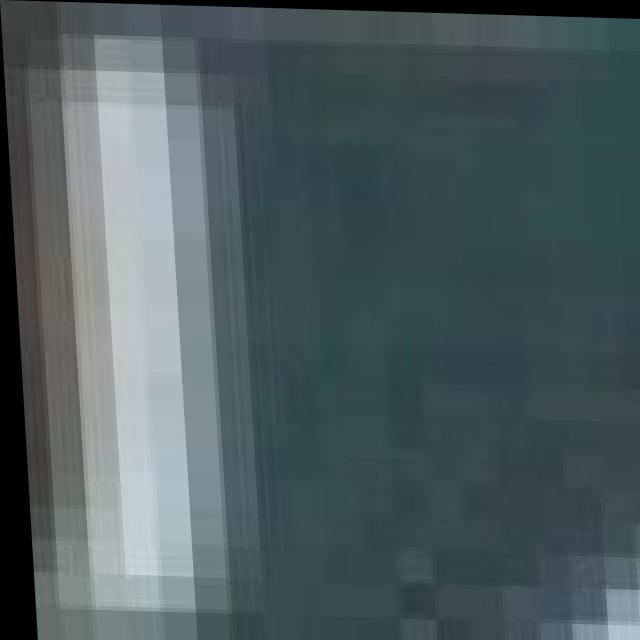transistor: (0, 0, 333, 639)
